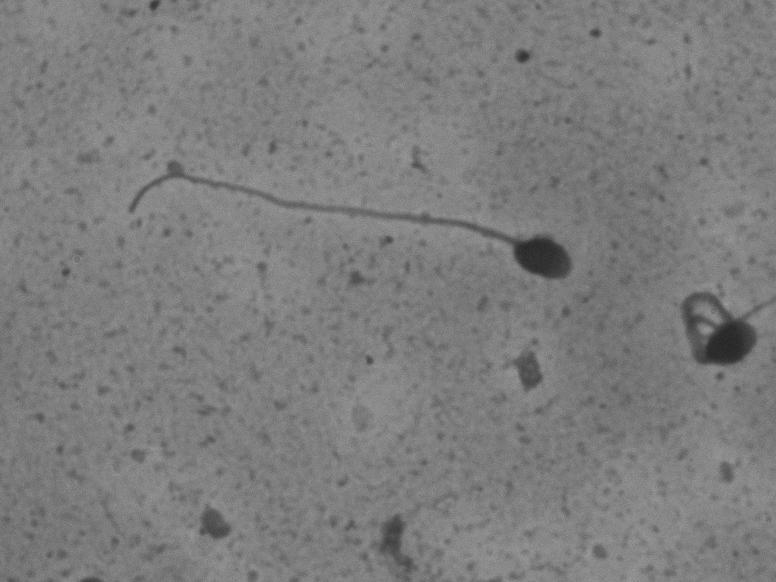Abnormal: (74, 117, 607, 322)
